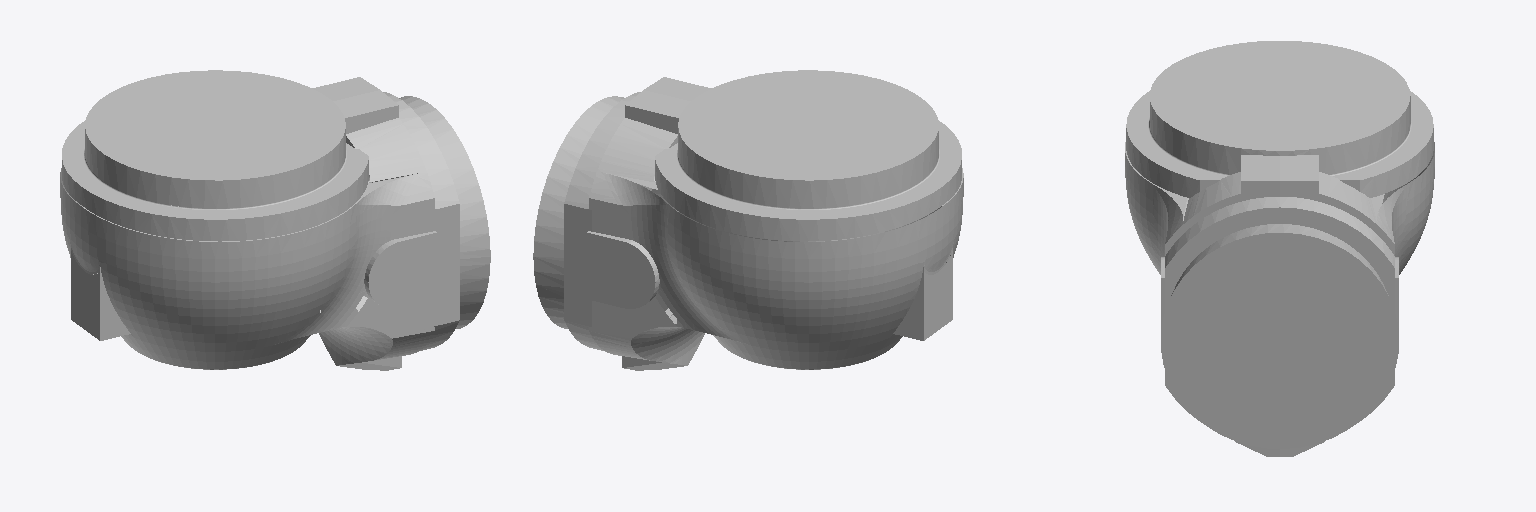
The model's file is kuka_arm_link_5_visuals_mesh.obj.
3 renders of one model, left to right at view 1: azimuth 30°, elevation 25°; view 2: azimuth 150°, elevation 25°; view 3: azimuth 270°, elevation 25°, orthographic.
Bounding box in the file's own units: 0.3125 × 0.2398 × 0.24.